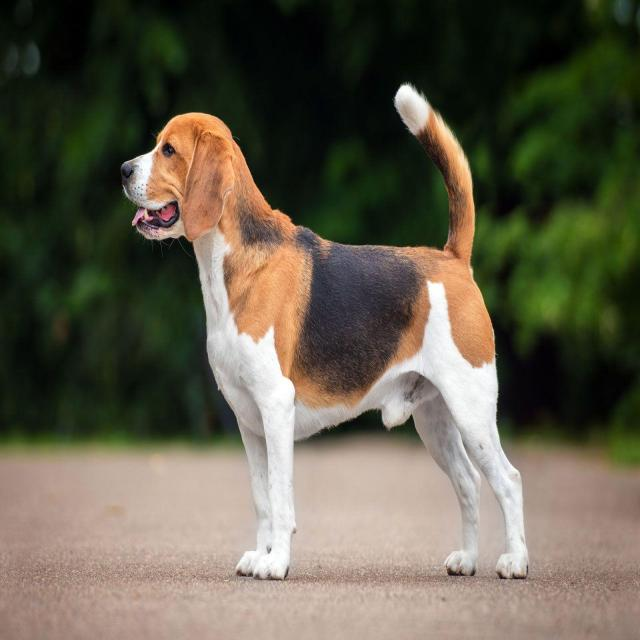Dog: (116, 103, 252, 256)
